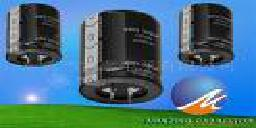Electrolytic-capacitor: (78, 7, 167, 108), (177, 2, 240, 72), (5, 3, 65, 70)
